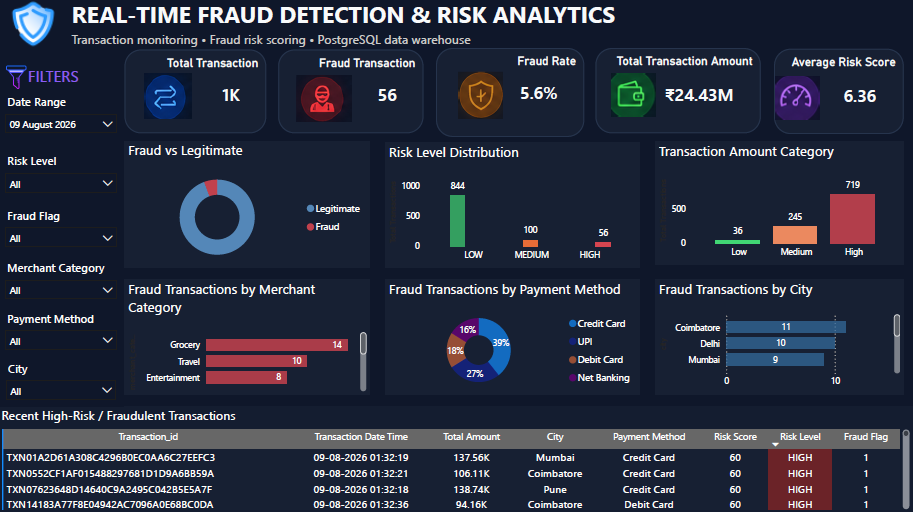

The dashboard page shown, as its layout file describes it:
{"tool":"powerbi","page":{"name":"Executive Fraud Overview","canvas":[1280,720],"ordinal":0},"visuals":[{"type":"textbox","title":"REAL-TIME FRAUD DETECTION & RISK ANALYTICS","box":[98.4,0,1181.2,81.2],"z":0},{"type":"cardVisual","title":"Fraud Rate","fields":{"Data":["public fact_transactions.Fraud Rate"]},"box":[612.5,70.3,207.8,123.4],"z":1000},{"type":"cardVisual","title":"Average Risk Score","fields":{"Data":["public fact_transactions.Average Risk Score"]},"box":[1085.9,70.5,180.7,119],"z":2000},{"type":"cardVisual","title":"Fraud Transaction","fields":{"Data":["public fact_transactions.Fraud Transactions"]},"box":[392.2,71.9,203.1,117.2],"z":3000},{"type":"cardVisual","title":"Total Transaction","fields":{"Data":["public fact_transactions.Total Transactions"]},"box":[176.6,71.9,198.4,117.2],"z":4000},{"type":"cardVisual","title":"Total Transaction Amount","fields":{"Data":["public fact_transactions.Total Transaction Amount"]},"box":[835.9,70.3,230.7,119],"z":5000},{"type":"image","box":[0,0,98.4,72],"z":6000},{"type":"donutChart","title":"Fraud vs Legitimate","fields":{"Category":["public fact_transactions.Fraud Status"],"Y":["public fact_transactions.Total Transactions"]},"box":[176.6,200,343.8,176.6],"z":7000},{"type":"clusteredColumnChart","title":"Risk Level Distribution","fields":{"Category":["public fact_transactions.risk_level"],"Y":["public fact_transactions.Total Transactions"],"Series":["public fact_transactions.risk_level"]},"box":[542.2,201.6,356.2,175],"z":8000},{"type":"clusteredColumnChart","title":"Transaction Amount Category","fields":{"Category":["public fact_transactions.amount_category"],"Y":["public fact_transactions.Total Transactions"]},"box":[919.8,201.3,346.8,171.9],"z":9000},{"type":"clusteredBarChart","title":"Fraud Transactions by Merchant Category","fields":{"Category":["public dim_merchant.merchant_category"],"Y":["public fact_transactions.Total Transactions"]},"box":[176.6,393.8,343.8,160.9],"z":10000},{"type":"donutChart","title":"Fraud Transactions by Payment Method","fields":{"Category":["public fact_transactions.payment_method"],"Y":["public fact_transactions.Total Transactions"]},"box":[542.2,393.8,356.2,160.9],"z":11000},{"type":"clusteredBarChart","title":"Fraud Transactions by City","fields":{"Y":["public fact_transactions.Total Transactions"],"Category":["public fact_transactions.city"]},"box":[919.8,393.8,346.8,160.2],"z":12000},{"type":"tableEx","title":"Recent High-Risk / Fraudulent Transactions","fields":{"Values":["public fact_transactions.transaction_id","public fact_transactions.Transaction Date Time","Sum(public fact_transactions.amount)","public fact_transactions.city","public fact_transactions.payment_method","Sum(public fact_transactions.risk_score)","public fact_transactions.risk_level","Sum(public fact_transactions.fraud_flag)"]},"box":[0,571.6,1279.8,148.4],"z":13000},{"type":"image","box":[632.8,103.1,84.4,65.6],"z":14000},{"type":"image","box":[417.2,103.1,76.6,75],"z":15000},{"type":"image","box":[198.4,106.2,78.1,62.5],"z":16000},{"type":"image","box":[857.8,98.4,62.5,75],"z":17000},{"type":"image","box":[1078.1,109.4,79.7,60.9],"z":18000},{"type":"slicer","fields":{"Values":["public fact_transactions.risk_level"]},"box":[0,211.6,176.3,76.4],"z":19000},{"type":"slicer","fields":{"Values":["public dim_date.full_date"]},"box":[0,129.3,176.3,80.8],"z":20000},{"type":"slicer","fields":{"Values":["public fact_transactions.fraud_flag"]},"box":[0,288,176.3,73.5],"z":21000},{"type":"slicer","fields":{"Values":["public dim_merchant.merchant_category"]},"box":[0,361.5,176.3,70.5],"z":22000},{"type":"slicer","fields":{"Values":["public fact_transactions.city"]},"box":[0,501.1,176.3,70.5],"z":23000},{"type":"slicer","fields":{"Values":["public fact_transactions.payment_method"]},"box":[0,432,176.3,69.1],"z":24000},{"type":"textbox","title":"FILTERS","box":[36.7,94,161.6,39.7],"z":25000},{"type":"image","box":[0,89.6,50,42.6],"z":26000}]}

Visuals, with their boxes in screenshot pixels (x1, y1, x2, y2), scaled from the page's 1280x720 canvas onto the 913x512 screenshot:
"REAL-TIME FRAUD DETECTION & RISK ANALYTICS" textbox: region(70, 0, 912, 58)
"Fraud Rate" cardVisual: region(437, 50, 585, 138)
"Average Risk Score" cardVisual: region(775, 50, 903, 135)
"Fraud Transaction" cardVisual: region(280, 51, 425, 134)
"Total Transaction" cardVisual: region(126, 51, 267, 134)
"Total Transaction Amount" cardVisual: region(596, 50, 761, 135)
image: region(0, 0, 70, 51)
"Fraud vs Legitimate" donutChart: region(126, 142, 371, 268)
"Risk Level Distribution" clusteredColumnChart: region(387, 143, 641, 268)
"Transaction Amount Category" clusteredColumnChart: region(656, 143, 903, 265)
"Fraud Transactions by Merchant Category" clusteredBarChart: region(126, 280, 371, 394)
"Fraud Transactions by Payment Method" donutChart: region(387, 280, 641, 394)
"Fraud Transactions by City" clusteredBarChart: region(656, 280, 903, 394)
"Recent High-Risk / Fraudulent Transactions" tableEx: region(0, 406, 912, 511)
image: region(451, 73, 512, 120)
image: region(298, 73, 352, 127)
image: region(142, 76, 197, 120)
image: region(612, 70, 656, 123)
image: region(769, 78, 826, 121)
slicer - public fact_transactions.risk_level: region(0, 150, 126, 205)
slicer - public dim_date.full_date: region(0, 92, 126, 149)
slicer - public fact_transactions.fraud_flag: region(0, 205, 126, 257)
slicer - public dim_merchant.merchant_category: region(0, 257, 126, 307)
slicer - public fact_transactions.city: region(0, 356, 126, 406)
slicer - public fact_transactions.payment_method: region(0, 307, 126, 356)
"FILTERS" textbox: region(26, 67, 141, 95)
image: region(0, 64, 36, 94)
